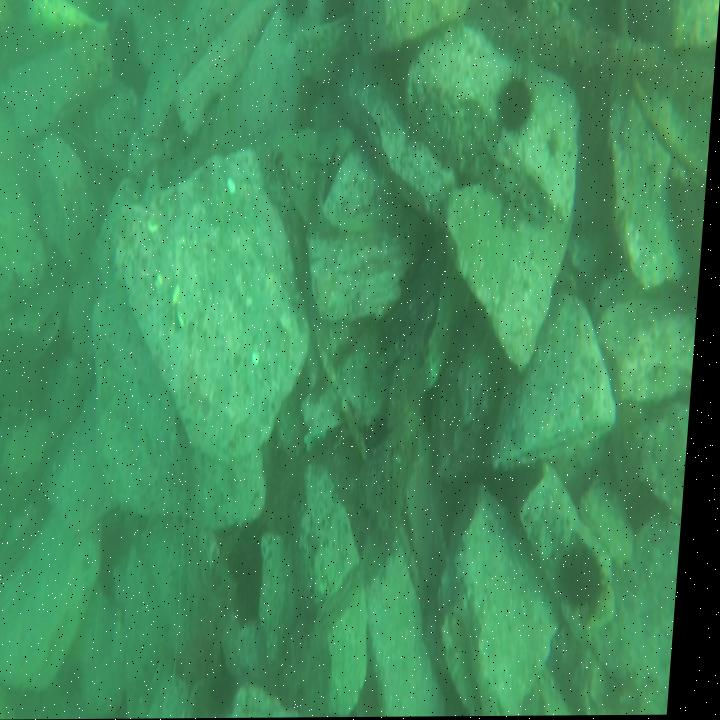echinus: (559, 528, 618, 630), (492, 59, 541, 144)
